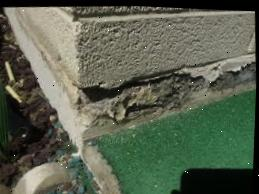spalling: (76, 73, 222, 126)
